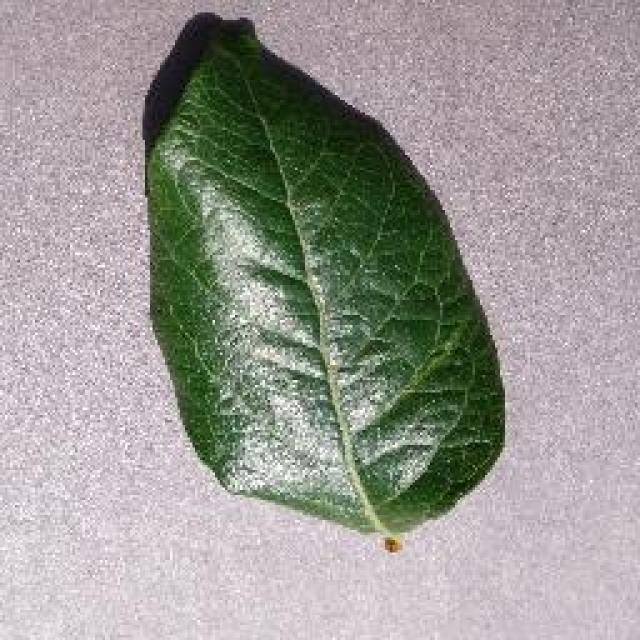Blu_healthy: (150, 95, 455, 495)
